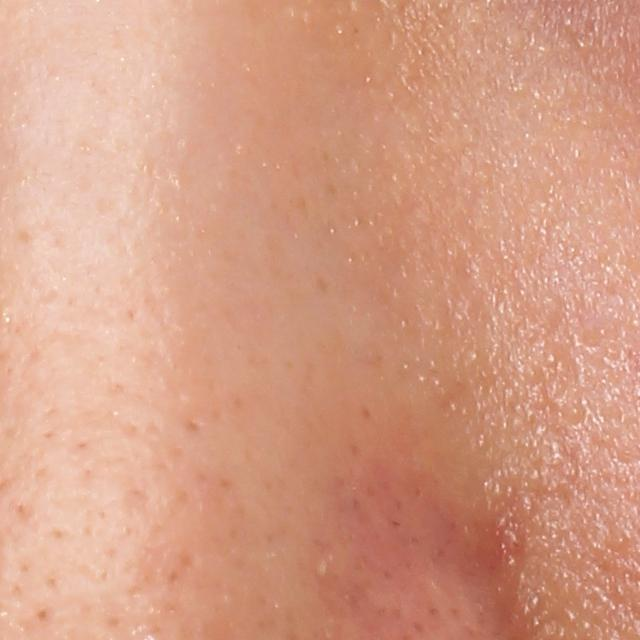comedo: (566, 403, 587, 424)
